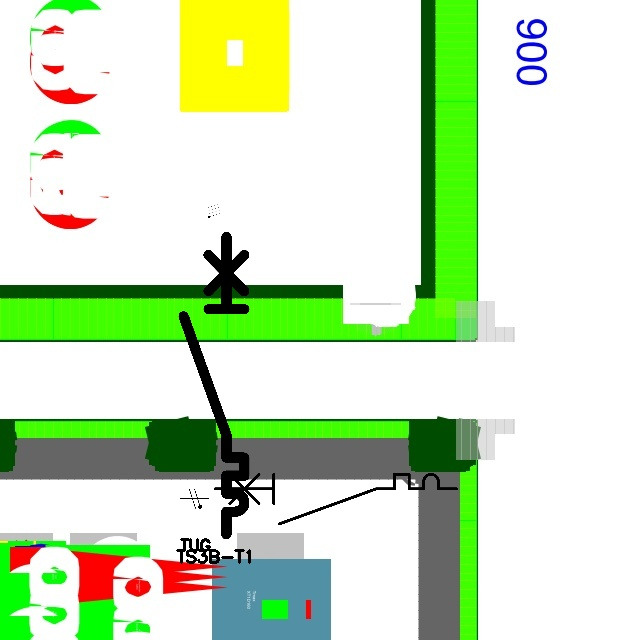interruptor_termomagnetico: (176, 229, 252, 542), (208, 468, 462, 530)
